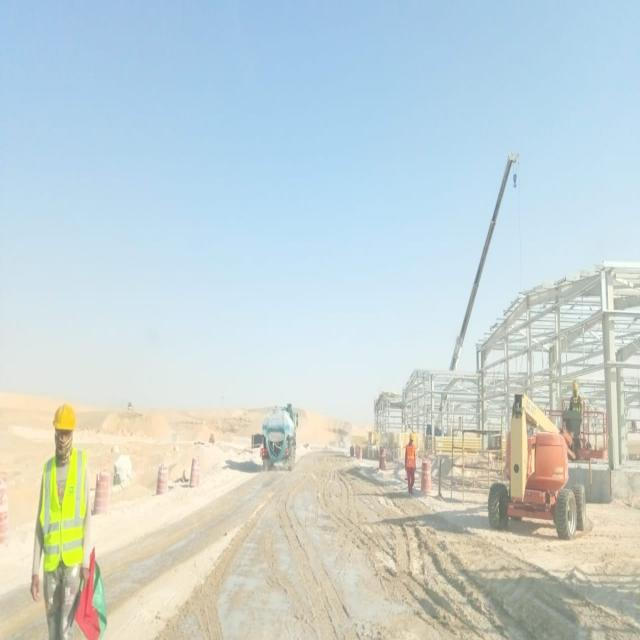Mobile Crane: (443, 144, 525, 376)
